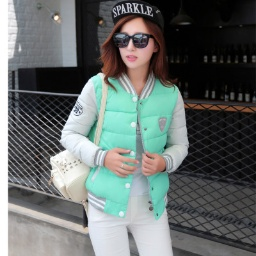face: (97, 14, 176, 79)
